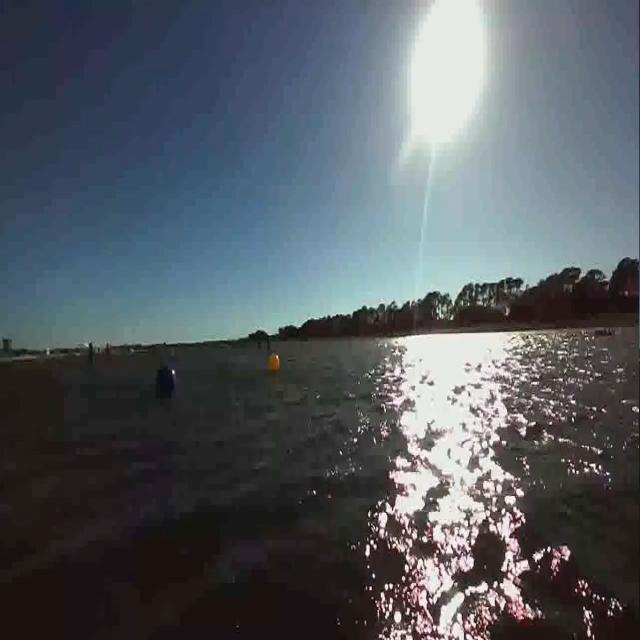blue-buoy: (155, 362, 178, 401)
yellow-buoy: (269, 352, 282, 372)
